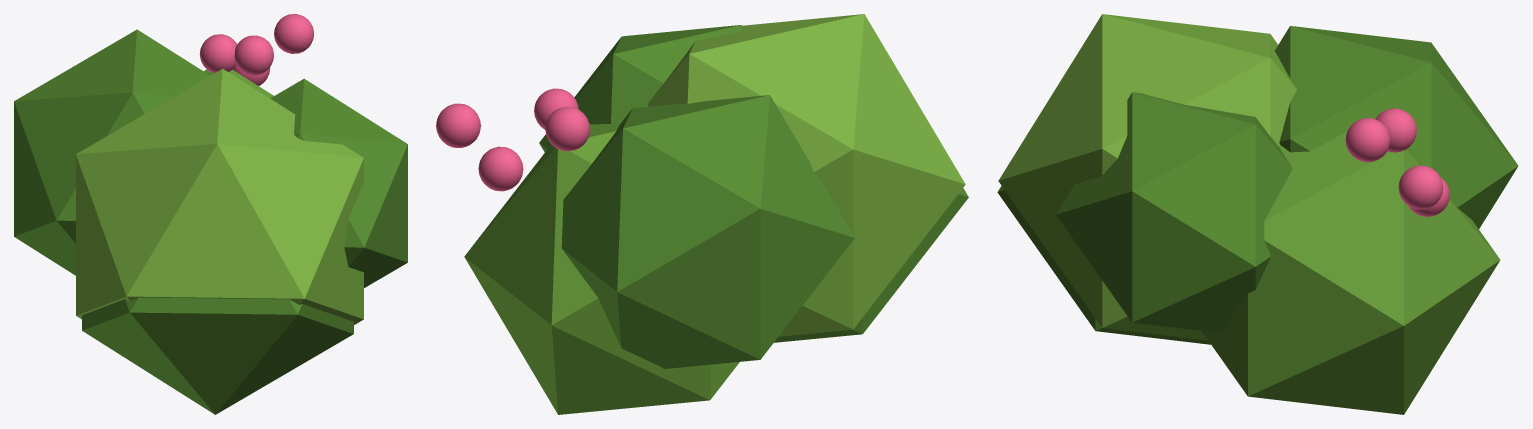
Rendered from bush.fbx.
3 renders of one model, left to right at view 1: azimuth 30°, elevation 25°; view 2: azimuth 150°, elevation 25°; view 3: azimuth 270°, elevation 25°, orthographic. The views are drawn at different scales.
Parts seen in each view (by area): view 1: Flowering Bush.001; view 2: Flowering Bush.001; view 3: Flowering Bush.001.
Part boxes in pixels (x1=…): Flowering Bush.001: x1=14, y1=14, x2=407, y2=414; Flowering Bush.001: x1=436, y1=14, x2=968, y2=414; Flowering Bush.001: x1=997, y1=14, x2=1518, y2=414.
Bounding box in the file's own units: 1.32 × 1.13 × 1.63.
